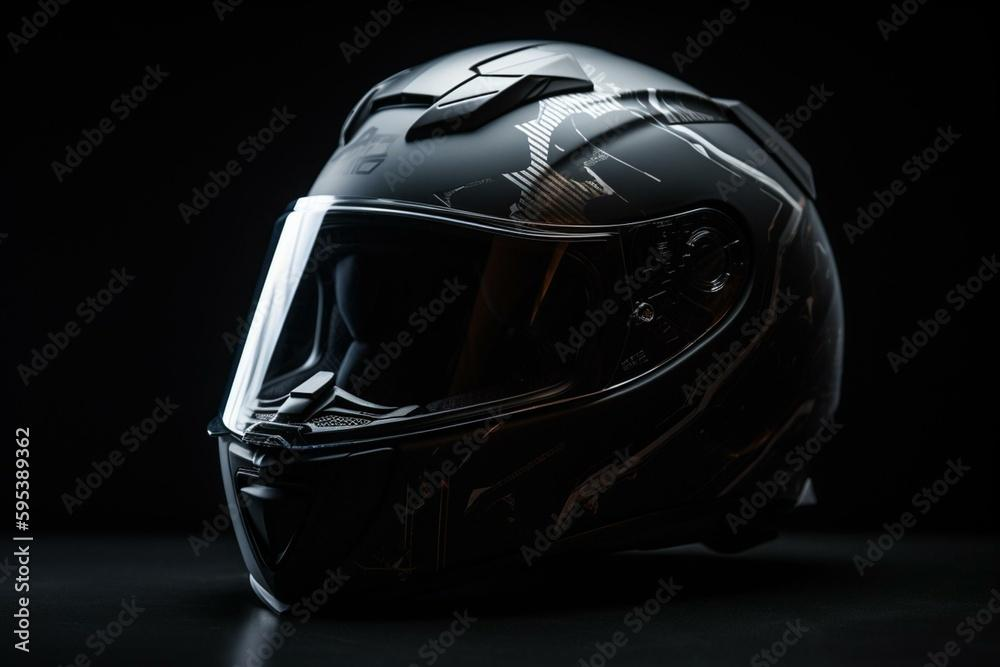helmet: (204, 34, 849, 621)
